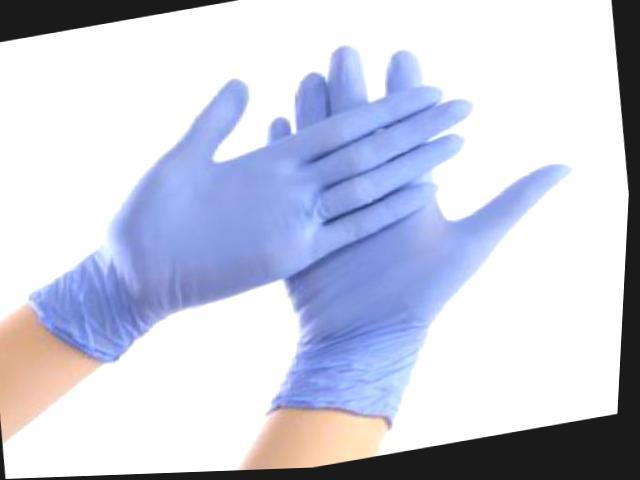Hand-in-Glove: (195, 2, 636, 458), (0, 41, 508, 378)
